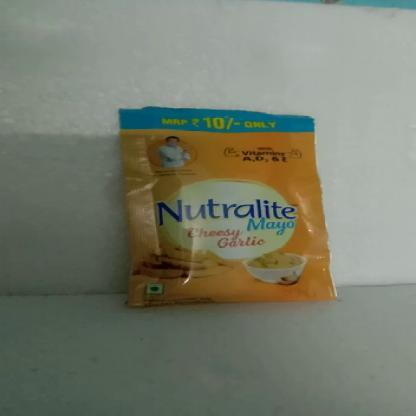Nutralite CHEESY GARLIC MAYO 30g: (118, 115, 314, 303)
